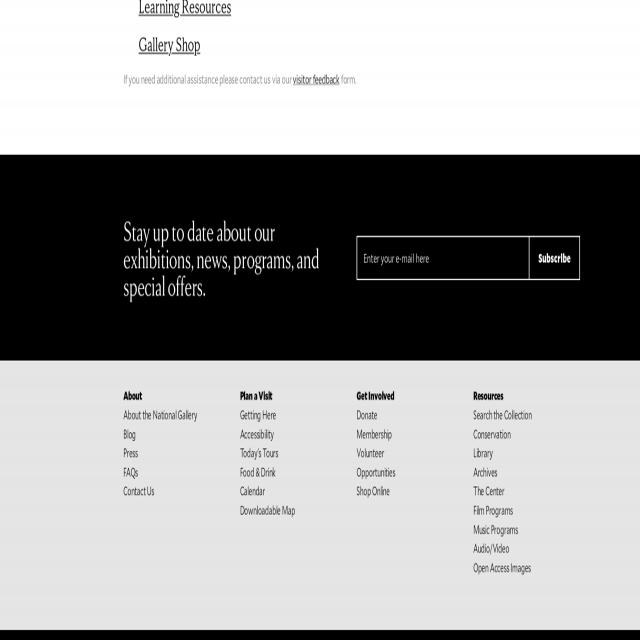button: (529, 236, 580, 281)
field: (356, 236, 530, 281)
